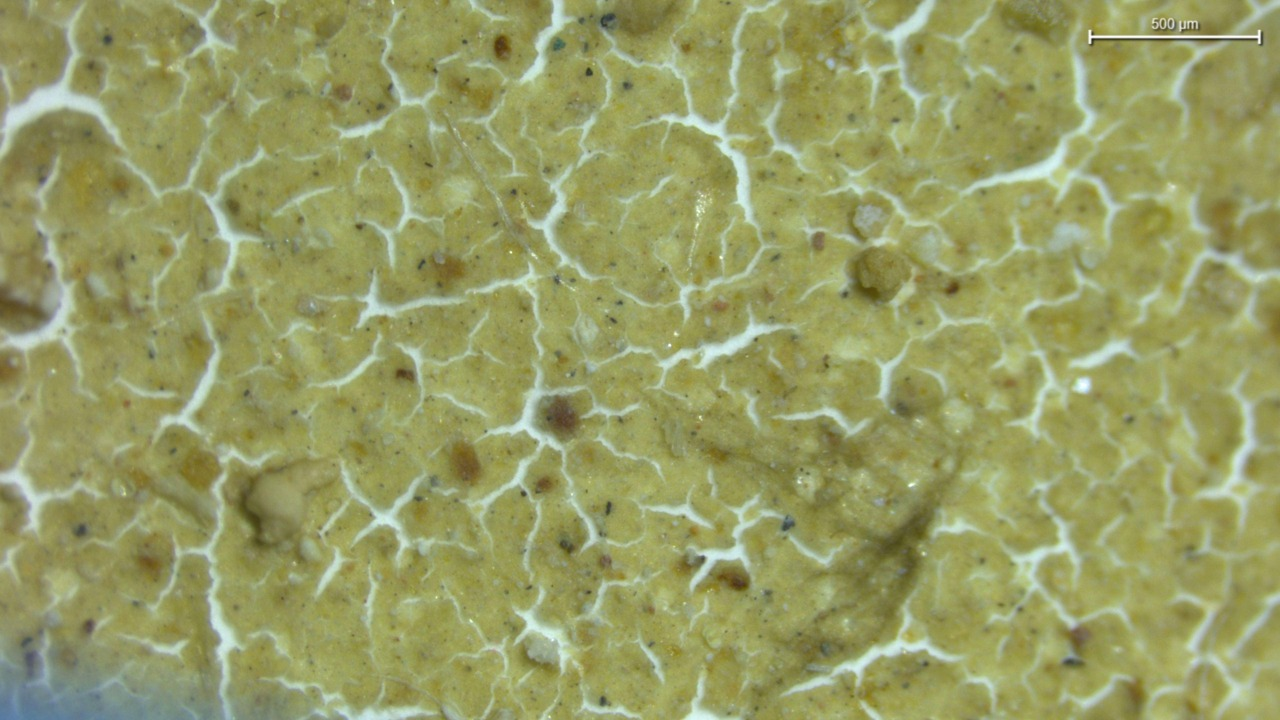microplastic_fragment: (237, 459, 343, 548), (860, 246, 904, 292), (855, 205, 881, 238)
